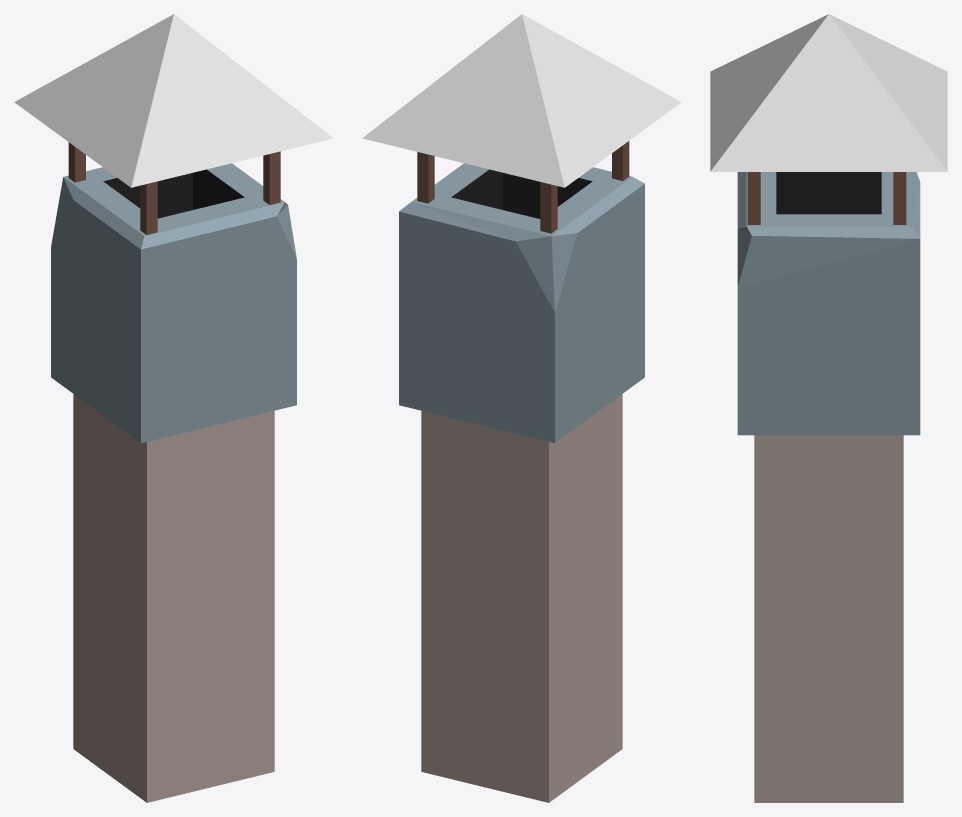
File: Flue_002.glb
3 views of the same model, side by side, from view 1: azimuth 30°, elevation 25°; view 2: azimuth 150°, elevation 25°; view 3: azimuth 270°, elevation 25° (orthographic).
Visible parts, largest first — view 1: Flue_002; view 2: Flue_002; view 3: Flue_002.
Boxes of the visible parts, x1,y1,x2,y2 form: Flue_002: [14, 14, 333, 802]; Flue_002: [362, 14, 681, 802]; Flue_002: [710, 14, 947, 802].
Bounding box in the file's own units: 1.58 × 5.55 × 1.58.
Materials: 1 (1 with a texture image).
